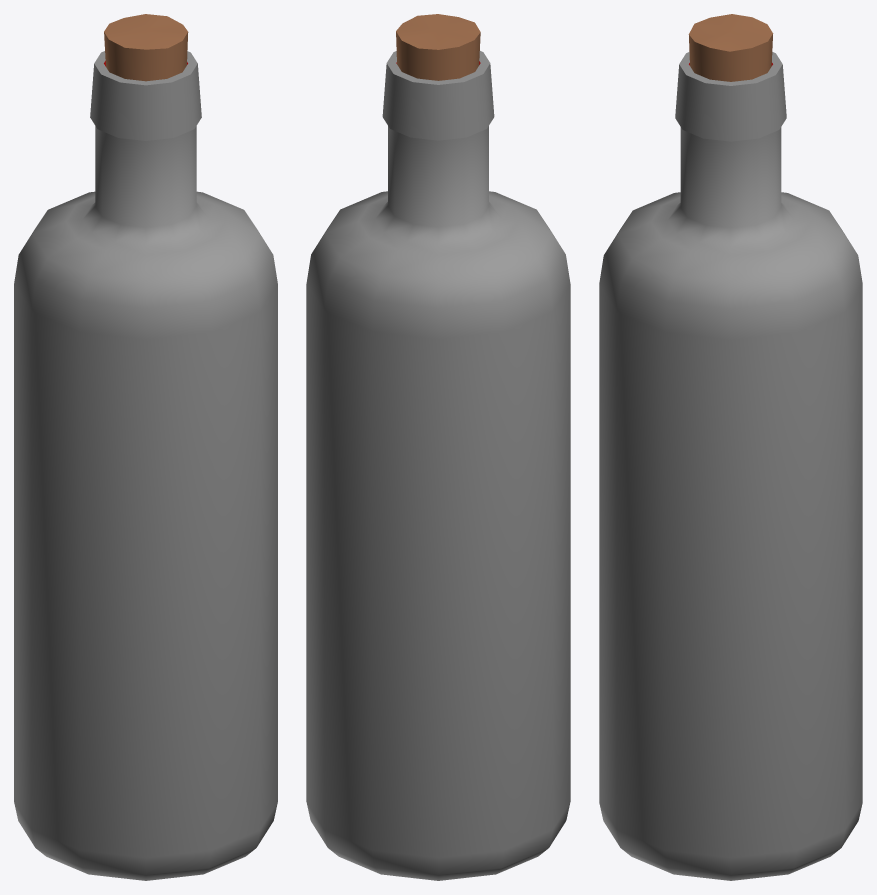
The model's file is Bottle02.FBX.
3 views of the same model, side by side, from view 1: azimuth 30°, elevation 25°; view 2: azimuth 150°, elevation 25°; view 3: azimuth 270°, elevation 25° (orthographic).
Visible parts, largest first — view 1: Bottle02; view 2: Bottle02; view 3: Bottle02.
Part boxes in pixels (x1,y1,x2,y2): Bottle02: [14, 14, 277, 880]; Bottle02: [306, 14, 570, 880]; Bottle02: [599, 14, 862, 880].
Bounding box in the file's own units: 3.13 × 10.54 × 3.13.
